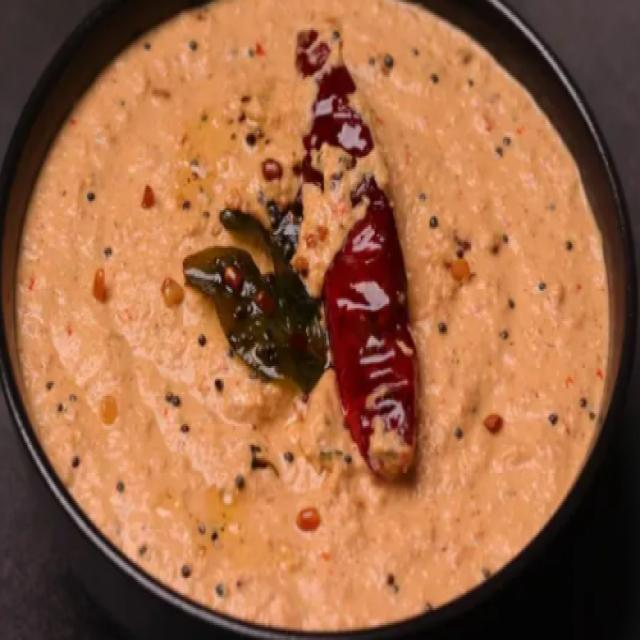peanut chutney: (68, 13, 599, 640)
